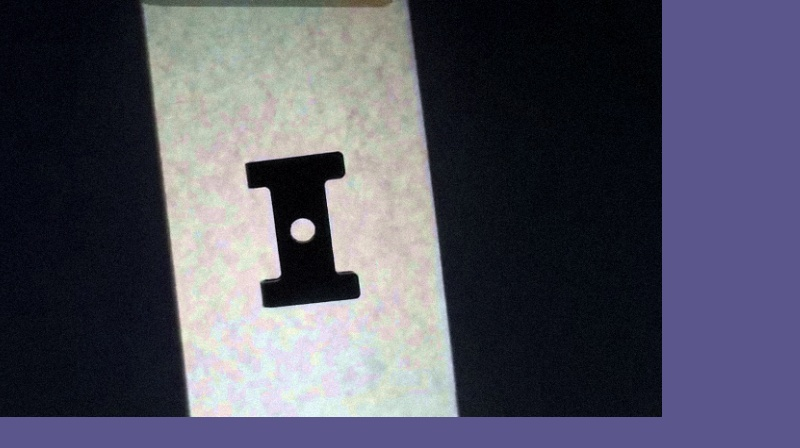O002: (236, 148, 362, 309)
